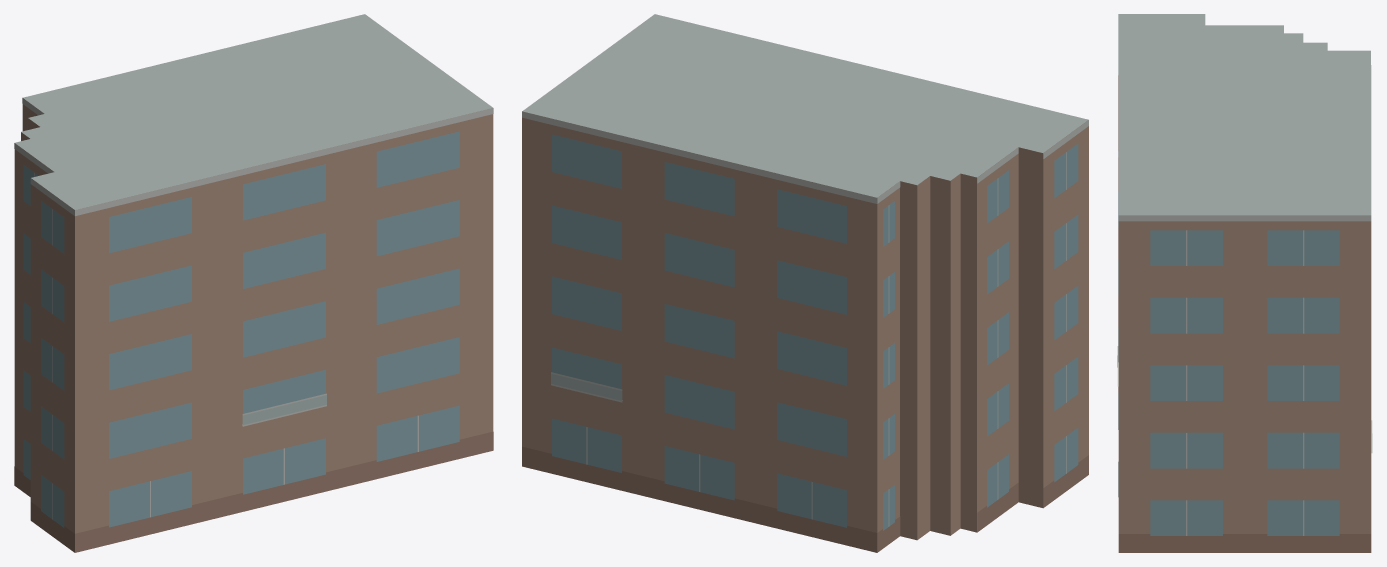
The model's file is survey-upis-32935402.glb.
3 renders of one model, left to right at view 1: azimuth 30°, elevation 25°; view 2: azimuth 150°, elevation 25°; view 3: azimuth 270°, elevation 25°, orthographic. The views are drawn at different scales.
Visible parts, largest first — view 1: survey-upis-32935402.tmp; view 2: survey-upis-32935402.tmp; view 3: survey-upis-32935402.tmp.
Boxes of the visible parts, x1,y1,x2,y2 form: survey-upis-32935402.tmp: (14, 14, 493, 552); survey-upis-32935402.tmp: (522, 14, 1088, 552); survey-upis-32935402.tmp: (1117, 14, 1372, 552).
Bounding box in the file's own units: 17.6 × 13.75 × 9.42.
